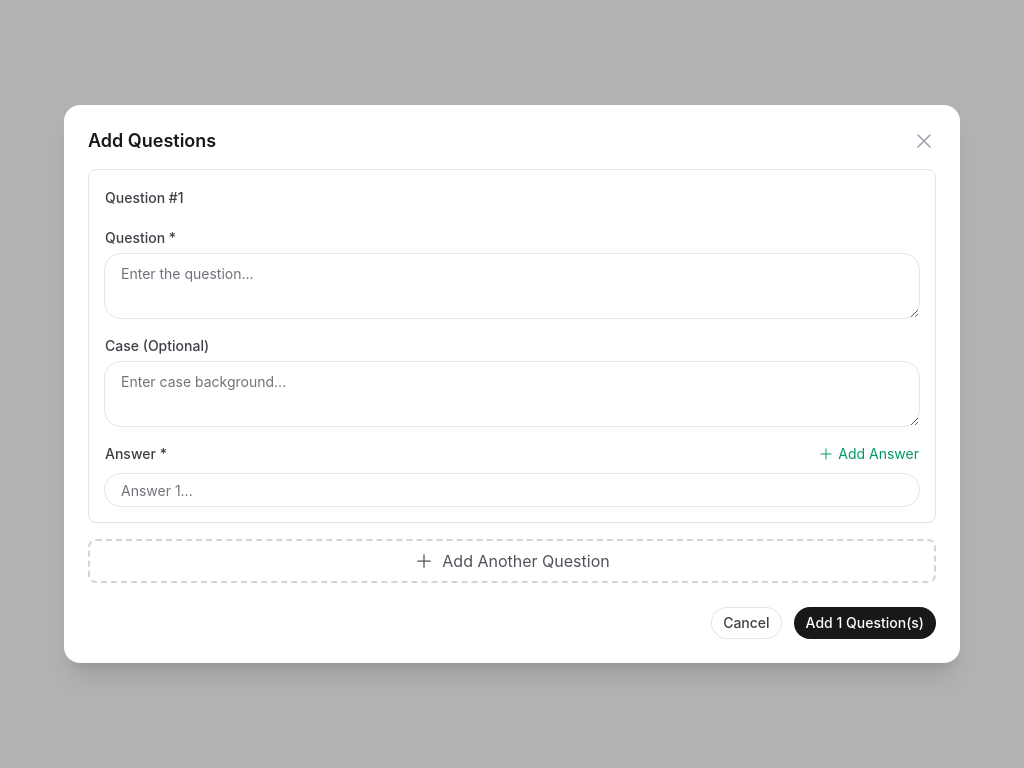
QuestionAddModal › Question Management › allows removing questions when more than one exists
The width and height of the screenshot is (1024, 768).
# Add a second question
Click the button "Add Another Question" at (512, 561), box [88,539,936,583]
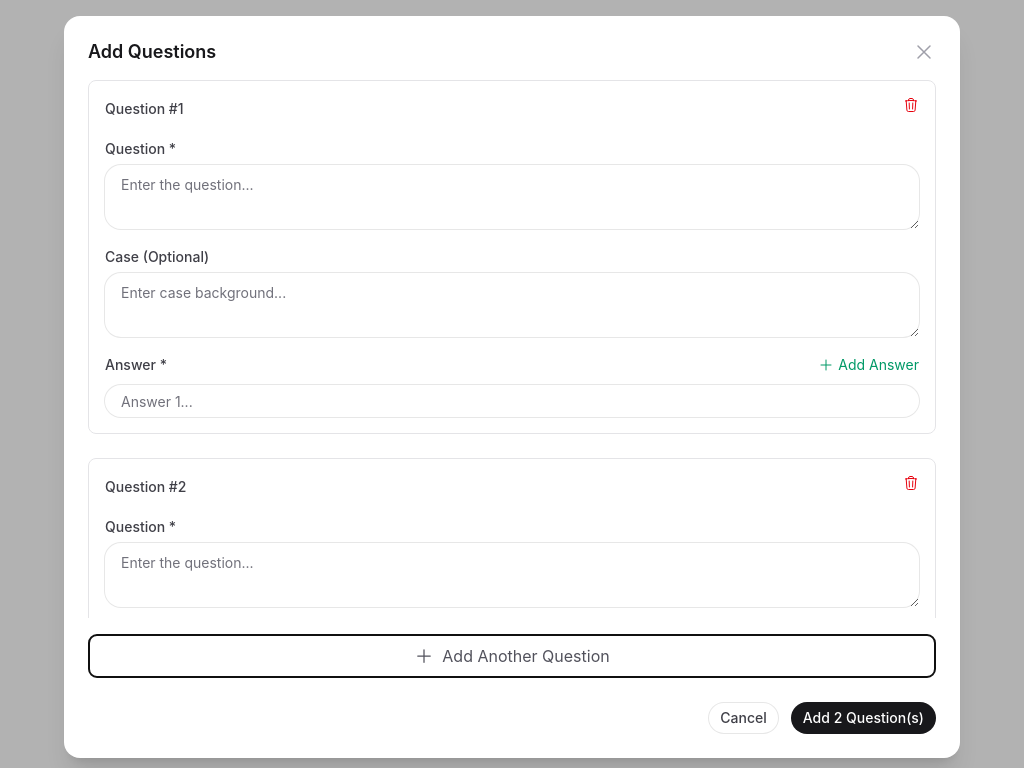
Expected: the heading "Question #2" is shown, [105,475,186,499]
# Remove the second question
Click the button titled "Remove question" in the row of "Question #2" at (911, 483), box [903,475,919,491]
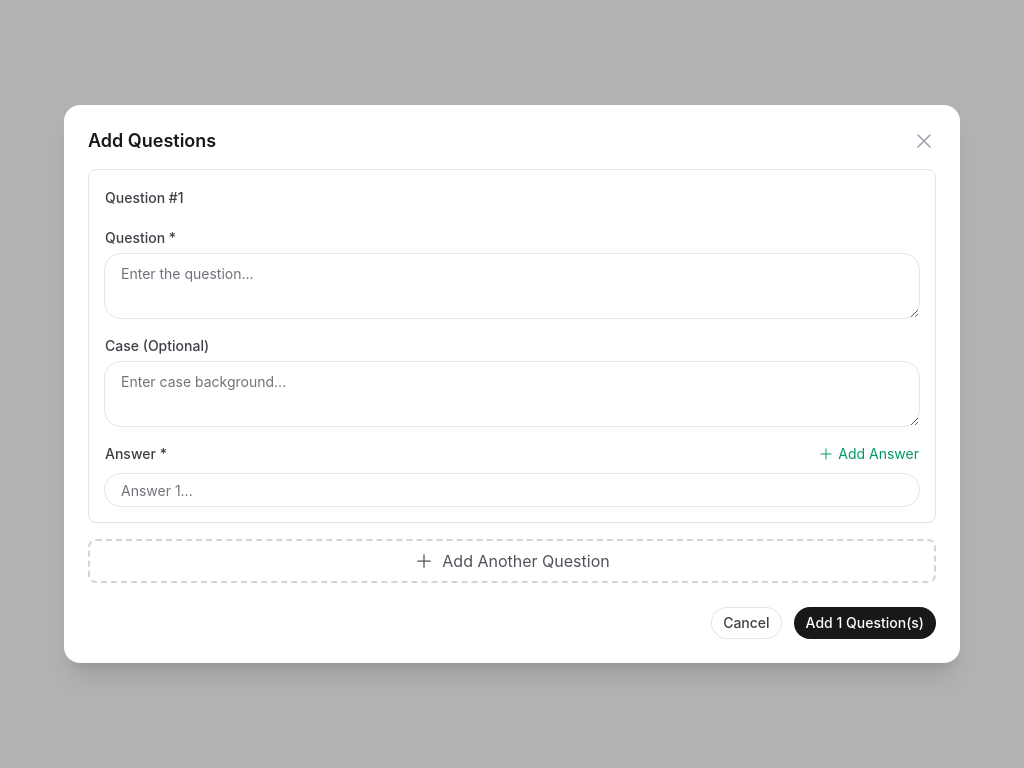
Expected: the heading "Question #1" is shown, [105,186,184,210]
Expected: the heading "Question #2" is gone
